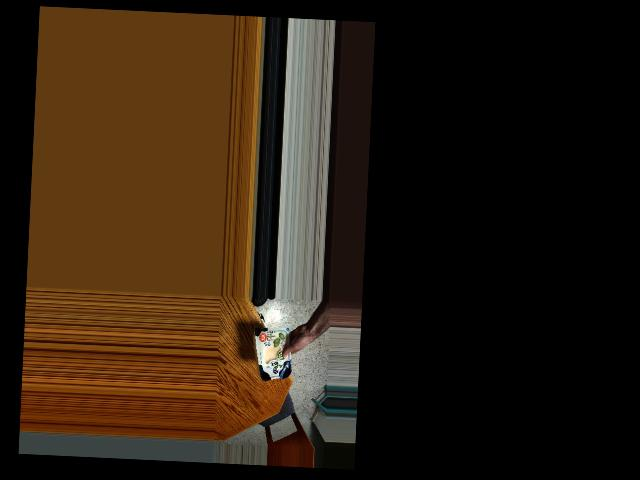cheese: (258, 330, 291, 380)
